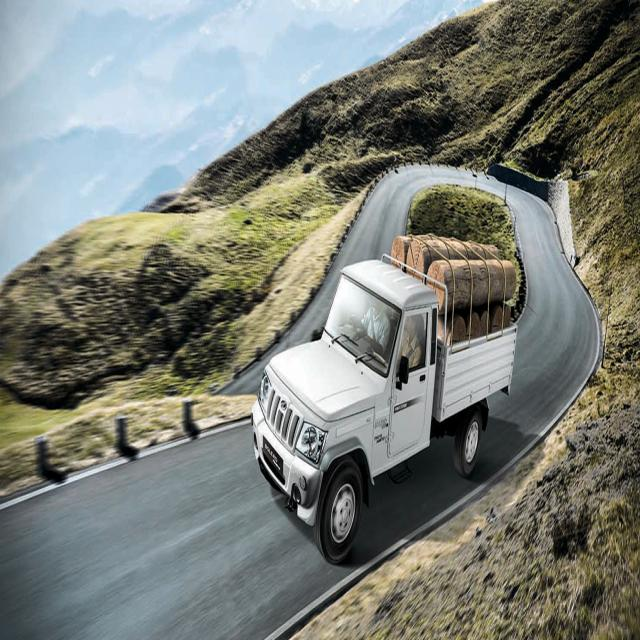light_vehicle: (252, 258, 440, 568)
